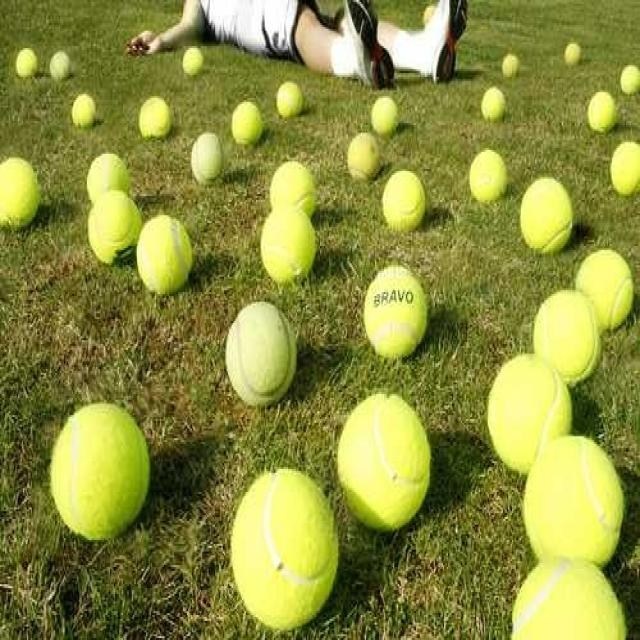Tennis_Ball: (222, 472, 334, 621), (332, 393, 432, 532), (50, 399, 147, 541), (523, 438, 625, 562), (507, 559, 629, 640), (486, 352, 564, 474), (228, 302, 294, 404), (534, 293, 600, 381), (364, 264, 426, 352), (576, 251, 635, 331), (521, 172, 571, 252), (138, 214, 187, 294), (88, 194, 138, 262), (260, 214, 314, 276), (0, 154, 42, 232), (272, 158, 316, 216), (382, 172, 427, 224), (470, 146, 507, 204), (348, 130, 382, 188), (193, 128, 225, 182), (133, 98, 177, 136), (232, 96, 264, 148), (610, 138, 640, 192), (278, 75, 305, 117), (589, 88, 614, 132), (373, 98, 400, 138), (73, 87, 97, 124), (482, 84, 504, 120), (183, 44, 206, 77), (620, 62, 640, 92), (52, 52, 70, 80), (18, 49, 35, 74), (565, 37, 580, 64), (503, 54, 518, 76)
